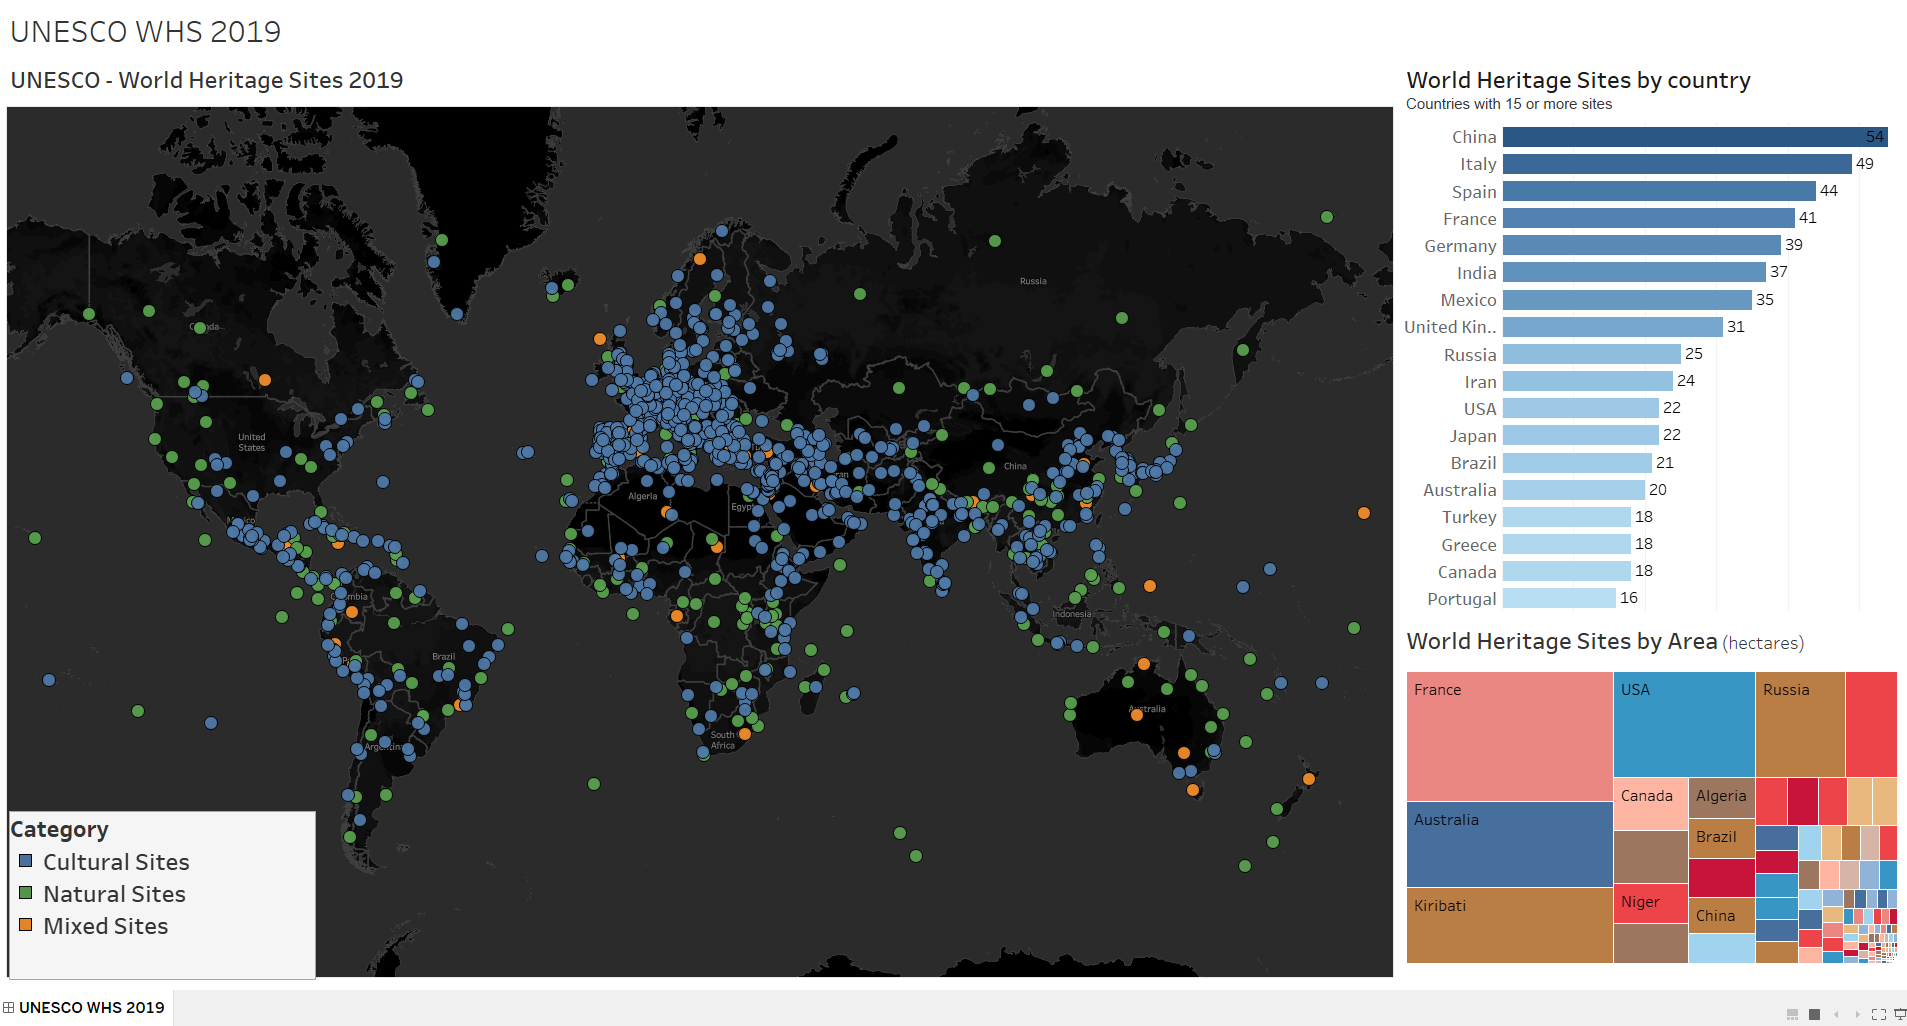

This screenshot's page, from the dashboard's own definition file:
{"tool":"tableau","page":{"name":"UNESCO WHS 2019","canvas":[1000,1000],"units":"permille","ordinal":0},"visuals":[{"type":"title","box":[4.8,10,990.3,62.4]},{"type":"worksheet","title":"WHC Map","mark":"Circle","rows":["latitude"],"cols":["longitude"],"box":[4.8,72.4,726,917.6]},{"type":"worksheet","title":"Sites by country","mark":"Automatic","rows":["states_name_en"],"cols":["id_no"],"box":[730.8,72.4,264.4,555.6]},{"type":"worksheet","title":"WHC Area","mark":"Automatic","box":[730.8,628,264.4,362.1]},{"type":"legend","title":"WHC Map","param":"[federated.0vqf8ol0j6y54i14tfud401gjsuw].[none:category:nk]","box":[11.5,824,159.9,169.8]}]}

Visuals, with their boxes on the dashboard's canvas, which has no fixed pixel size, in thousandths of its width and height (x1, y1, x2, y2). These are canvas units, not pixel positions in the 1907x1026 screenshot, which may show the page scaled, cropped or inside an application window:
title: 5/10/995/72
"WHC Map" worksheet (Circle marks): 5/72/731/990
"Sites by country" worksheet: 731/72/995/628
"WHC Area" worksheet: 731/628/995/990
"WHC Map" legend: 12/824/171/994
